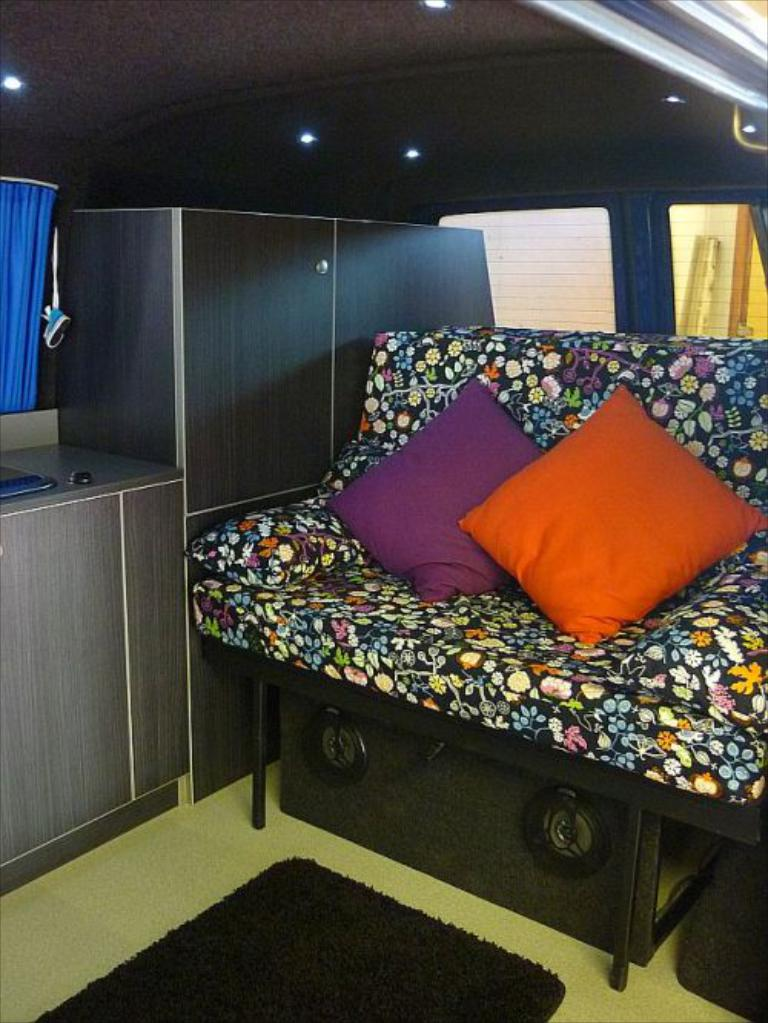Cabinetry: (46, 209, 510, 802), (0, 442, 186, 900)
